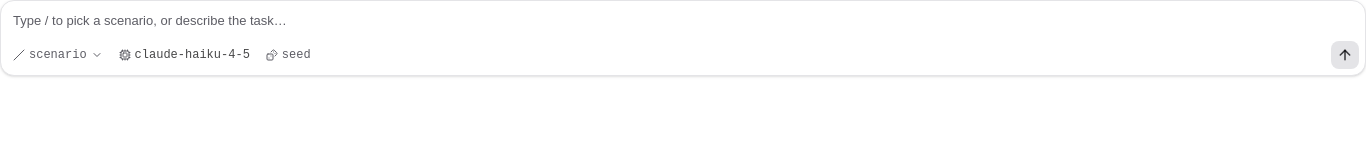
Test: Composer › opens the scenario menu on "/" and picks with the arrow keys + Enter
Type "/" into the text box named "Prompt".
click(683, 21); type("/")  # box x1=7 y1=7 x2=1359 y2=35
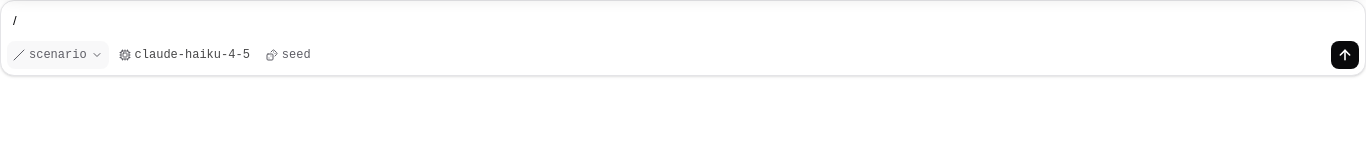
Press ArrowDown in the text box named "Prompt", box x1=7 y1=7 x2=1359 y2=35
Press Enter in the text box named "Prompt", box x1=7 y1=7 x2=1359 y2=35
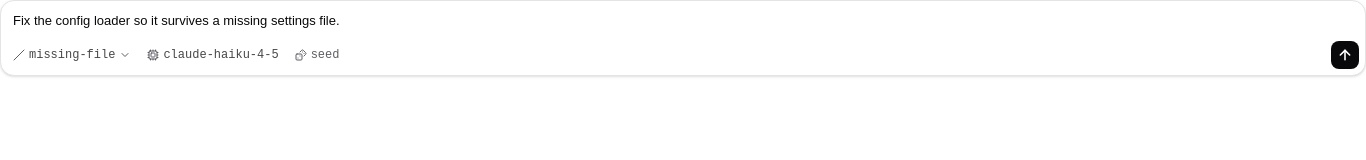
Check: the text box named "Prompt" holds "Fix the config loader so it survives a missing settings file.", box x1=7 y1=7 x2=1359 y2=35
Check: the button with aria-label "Choose scenario" reads "missing-file", box x1=7 y1=41 x2=137 y2=69
